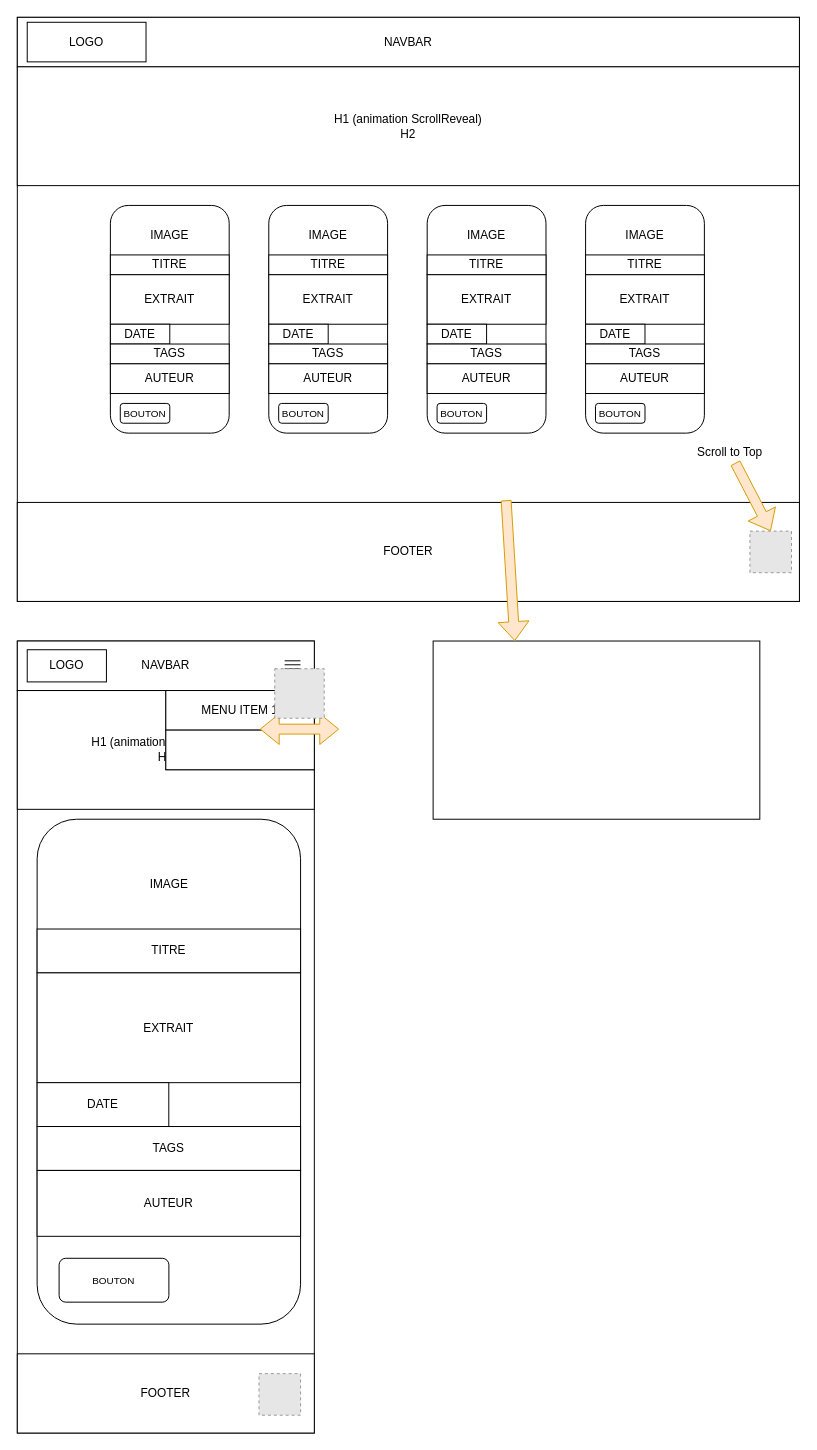
This 817x1450 diagram has some shape labels left out. Grey dashed boxes stand in for pictures. Here are the shapes that lost their labels. From the top down, the centre of each, then its label:
At (239,749): "MENU ITEM 2".
At (596,729): "MODAL DELAI AFFICHAGE : 3sec SessionStorage JS (pour 1 seul affichage/session)".
